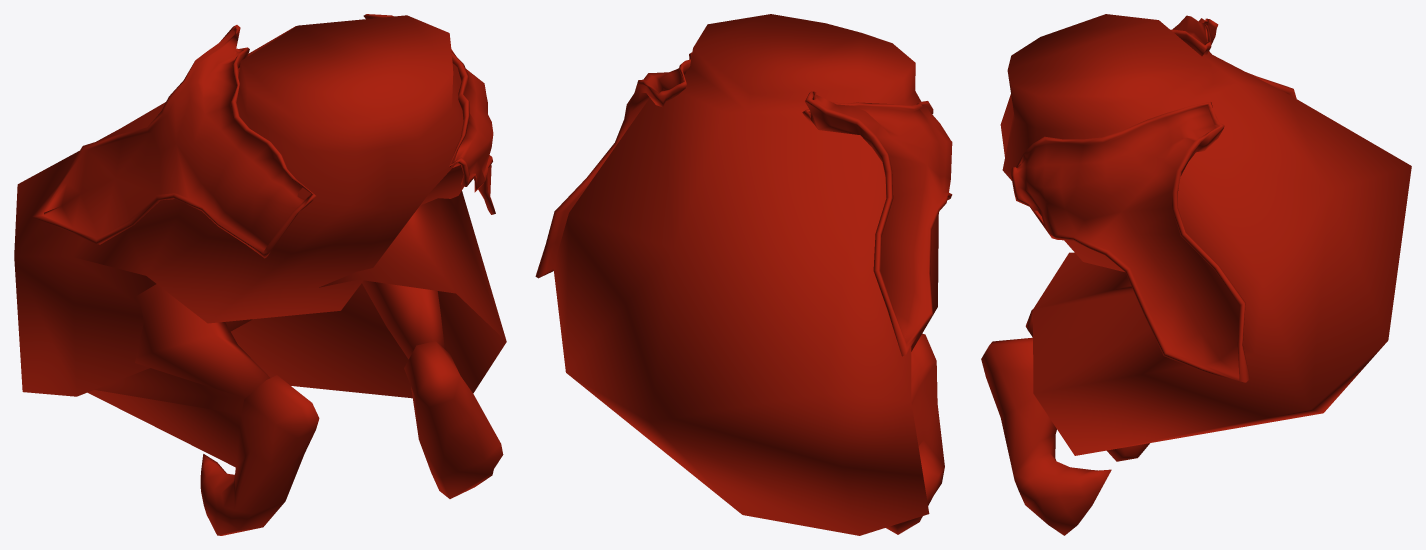
File: bot_000051.obj
The picture shows the model from 3 angles, left to right: view 1: azimuth 30°, elevation 25°; view 2: azimuth 150°, elevation 25°; view 3: azimuth 270°, elevation 25°; orthographic projection. The views are drawn at different scales.
Parts seen in each view (by area): view 1: LowPoly_Warlock.004_Plane.004; view 2: LowPoly_Warlock.004_Plane.004; view 3: LowPoly_Warlock.004_Plane.004.
Part boxes in pixels (x1,y1,x2,y2): LowPoly_Warlock.004_Plane.004: (14,14,506,535); LowPoly_Warlock.004_Plane.004: (535,14,952,535); LowPoly_Warlock.004_Plane.004: (981,14,1411,535).
Bounding box in the file's own units: 0.7703 × 0.7999 × 0.6768.
